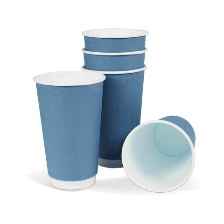paper_cup: (75, 21, 151, 171), (29, 66, 108, 192), (115, 111, 200, 194)
